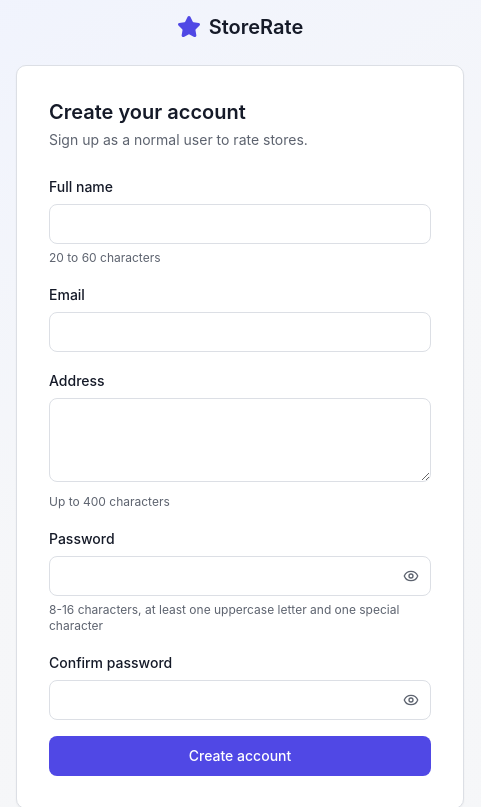
SignupPage › submits valid data without confirmPassword/role and shows duplicate-email errors
The width and height of the screenshot is (481, 807).
Type "Rahul Sharma Test Customer" into the field labelled "Full name" at (240, 224), box [49,204,431,244]
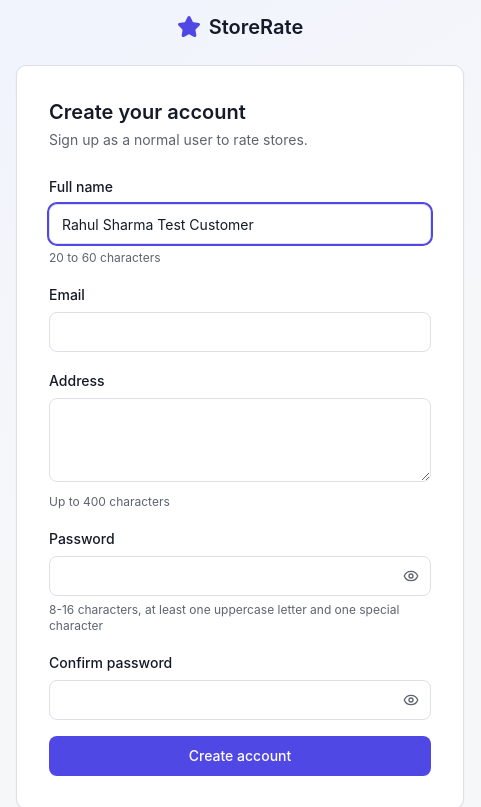
Type "a@b.co" into the field labelled "Email" at (240, 332), box [49,312,431,352]
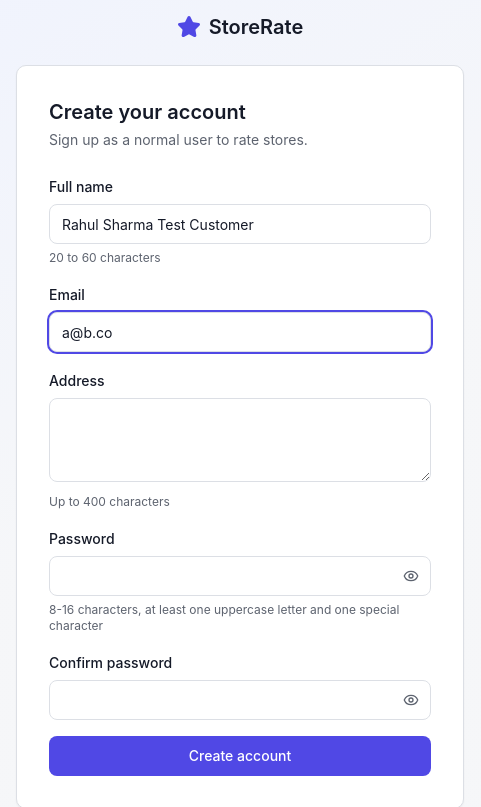
Type "1 Road" into the text box labelled "Address" at (240, 440), box [49,398,431,482]
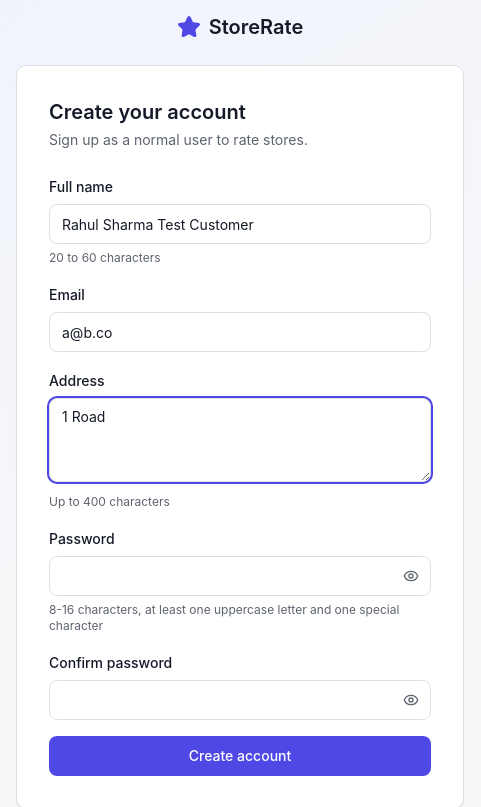
Type "Valid@123" into the password field labelled "Password" at (240, 576), box [49,556,431,596]
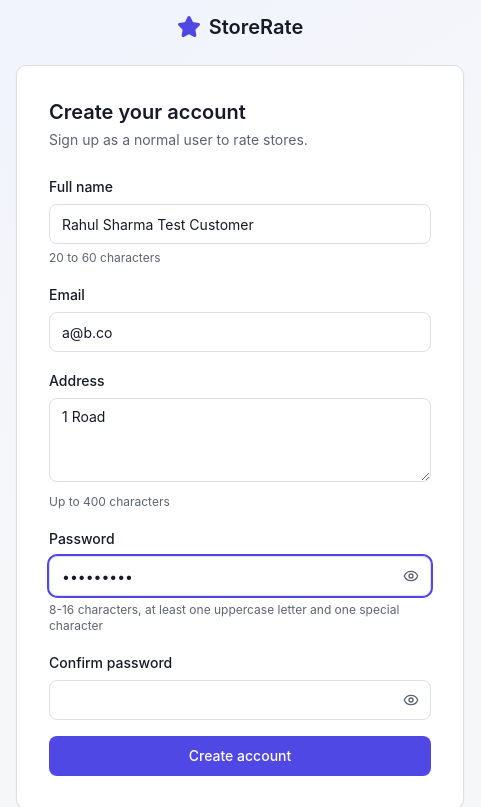
Type "Valid@123" into the password field labelled "Confirm password" at (240, 700), box [49,680,431,720]
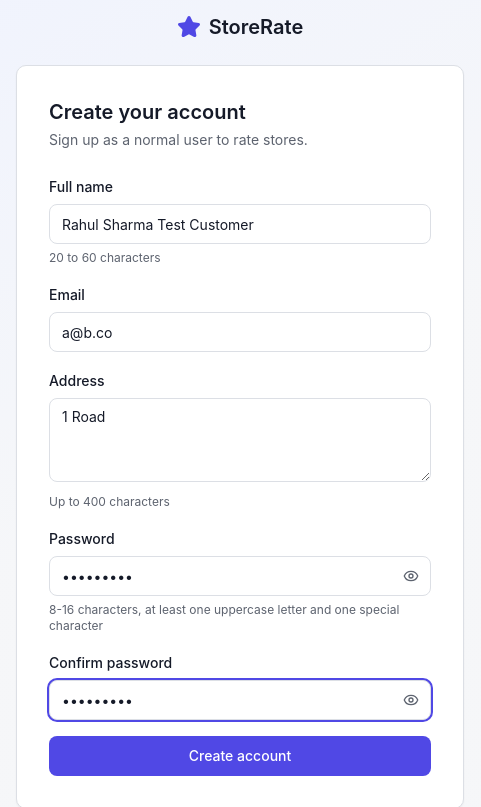
Click the button "Create account" at (240, 756), box [49,736,431,776]
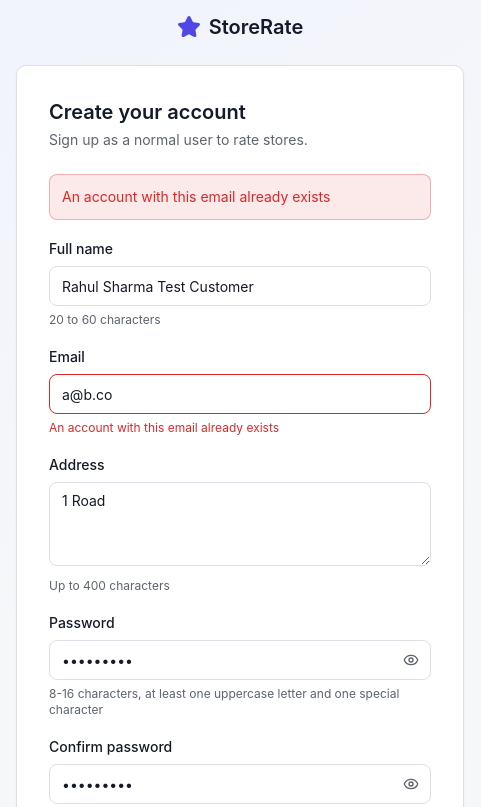
Result: the 1st text "An account with this email already exists" is shown at [49,174,431,220]
